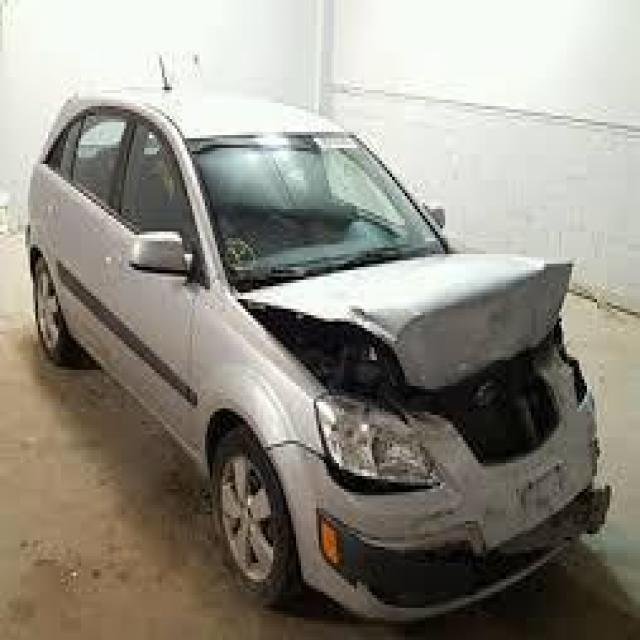damaged: (228, 260, 610, 566)
